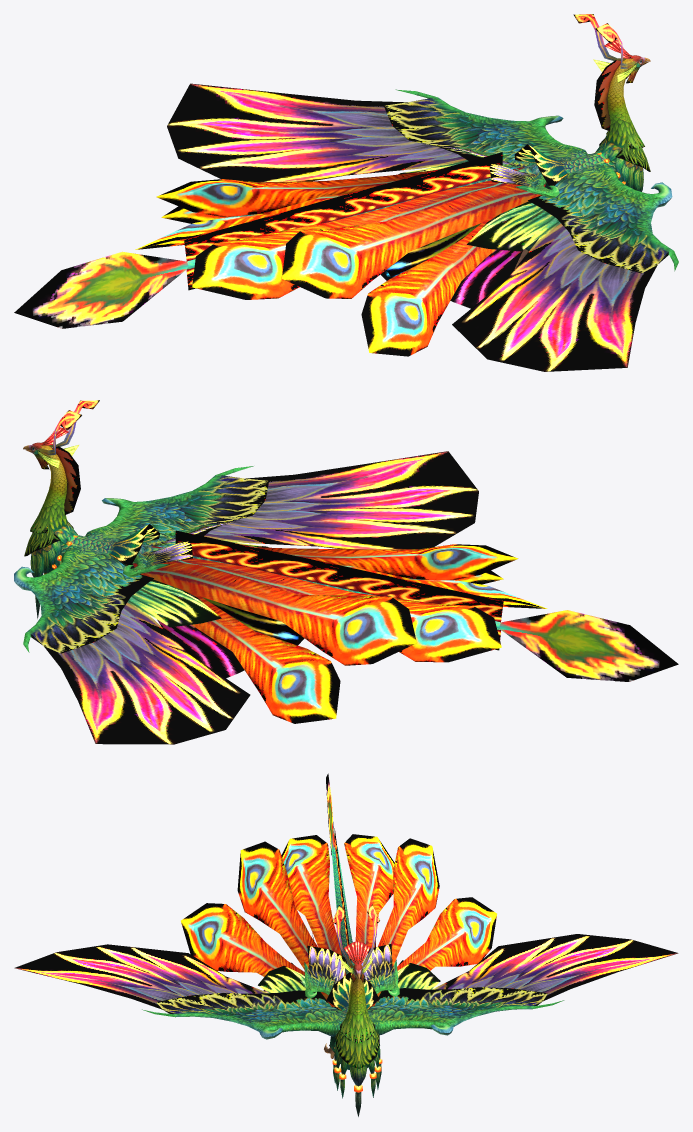
The picture shows the model from 3 angles, top to bottom: view 1: azimuth 30°, elevation 25°; view 2: azimuth 150°, elevation 25°; view 3: azimuth 270°, elevation 25°; orthographic projection. The views are drawn at different scales.
Parts seen in each view (by area): view 1: Object_8, Object_7; view 2: Object_8, Object_7; view 3: Object_8, Object_7.
Boxes of the visible parts, x1=… form: Object_8: x1=135, y1=83, x2=678, y2=371; Object_7: x1=14, y1=14, x2=650, y2=328; Object_8: x1=14, y1=451, x2=547, y2=744; Object_7: x1=23, y1=400, x2=678, y2=681; Object_8: x1=14, y1=828, x2=678, y2=1039; Object_7: x1=324, y1=773, x2=382, y2=1116.
Size of the model in its own units: 911 by 317 by 962.
Materials: 2 (2 with a texture image).
